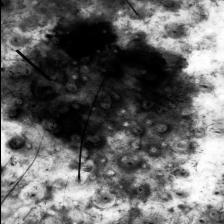Potentially Malignant Skin Tumors: (19, 74, 95, 136), (112, 51, 174, 89), (54, 27, 107, 59)
